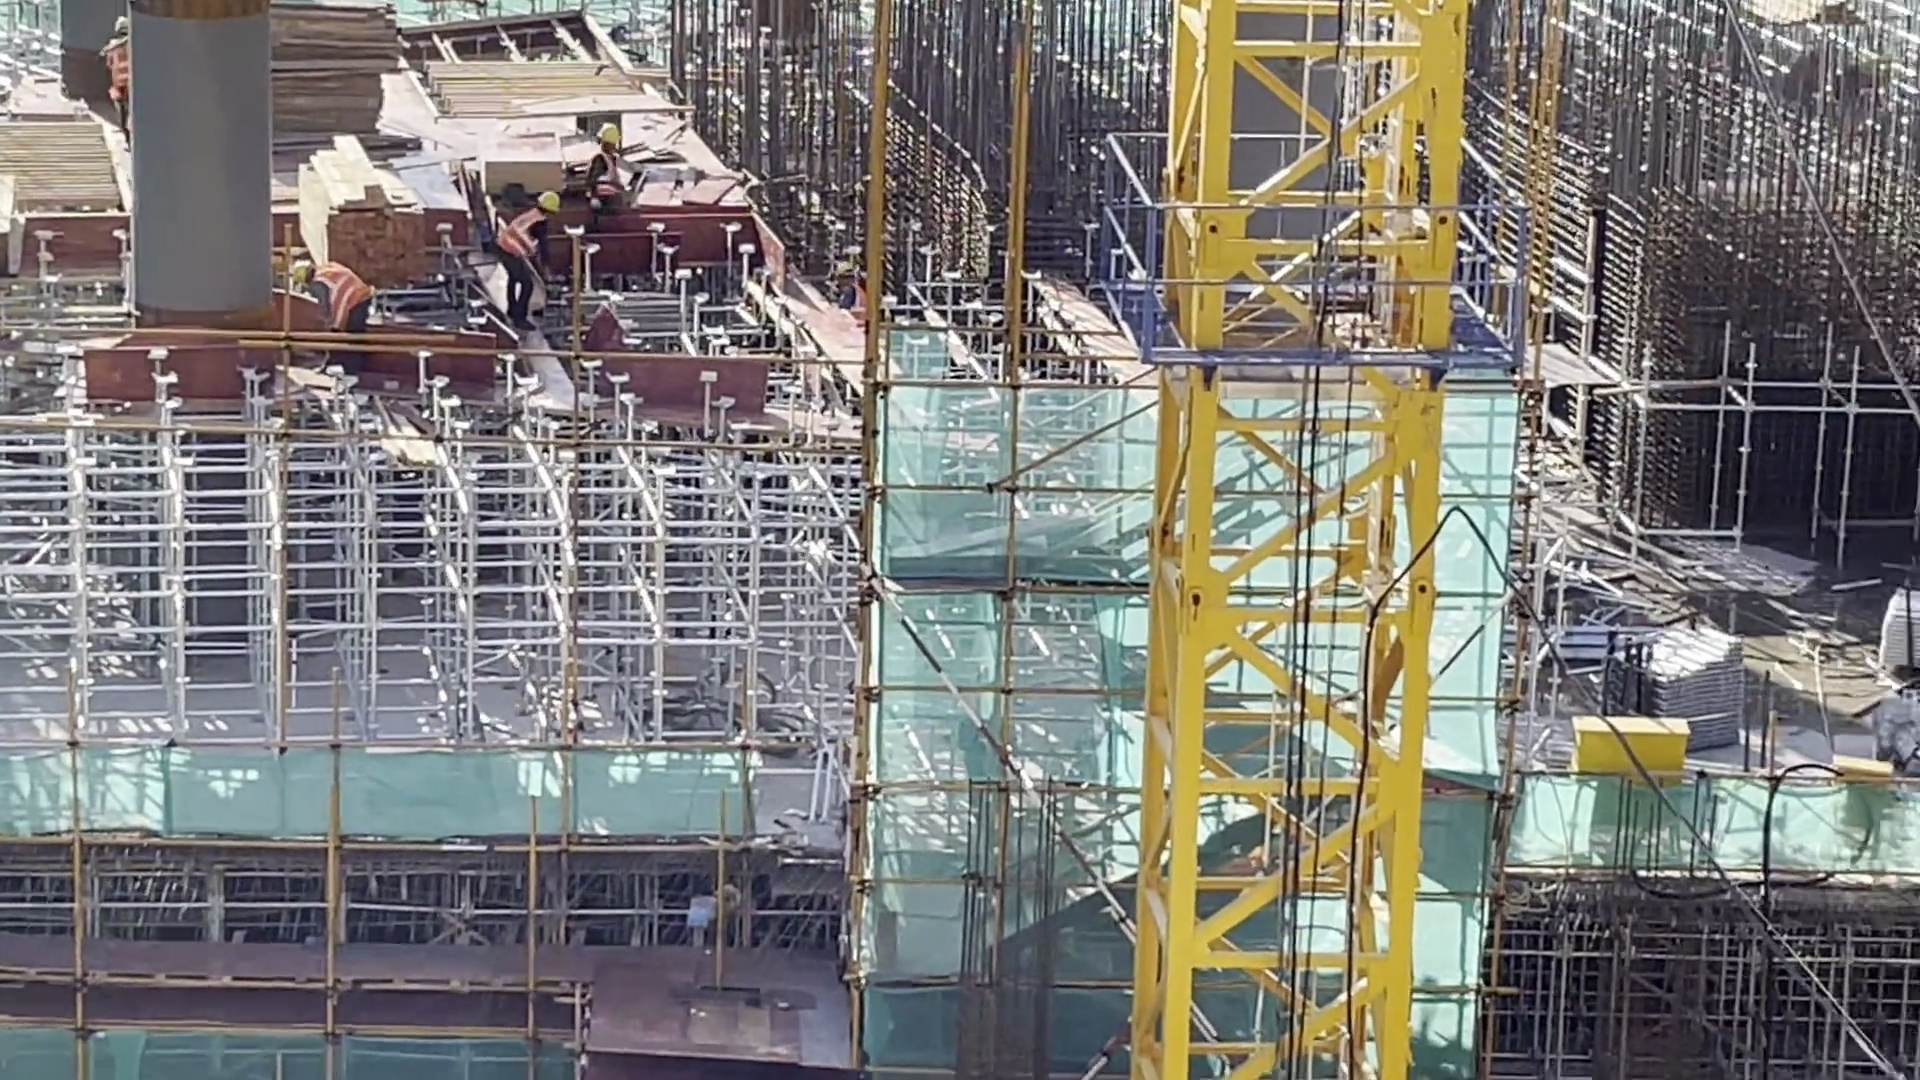board: (276, 1, 396, 166)
ebox: (1563, 719, 1683, 819), (1803, 756, 1869, 811)
helmet: (285, 259, 314, 289), (536, 187, 563, 219), (596, 122, 617, 152), (119, 16, 135, 36), (837, 257, 855, 271)
person: (291, 243, 401, 370), (498, 191, 564, 325), (101, 5, 139, 150), (596, 113, 643, 206), (843, 260, 889, 348)
scaffold: (1601, 627, 1778, 761), (1873, 574, 1920, 649)
vest: (484, 215, 541, 274), (329, 274, 373, 317), (108, 39, 135, 97), (593, 162, 620, 195), (845, 286, 872, 315)
wood: (326, 147, 414, 249)
